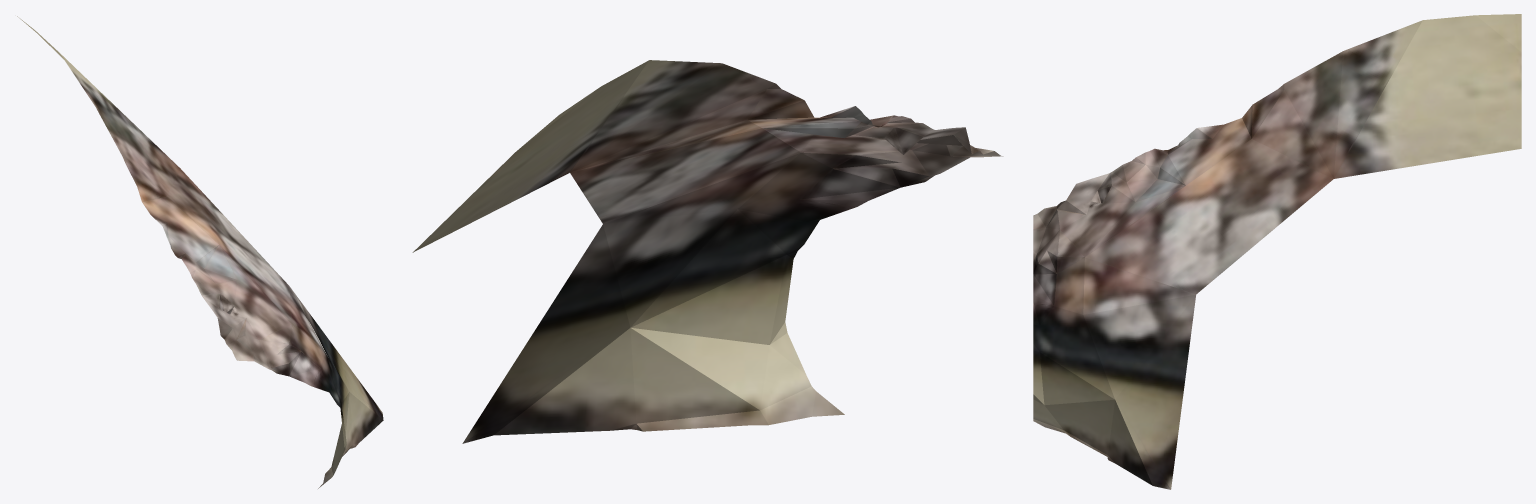
3 views of the same model, side by side, from view 1: azimuth 30°, elevation 25°; view 2: azimuth 150°, elevation 25°; view 3: azimuth 270°, elevation 25° (orthographic). The views are drawn at different scales.
Bounding box in the file's own units: 0.9052 × 1.38 × 1.67.
Materials: 1 (1 with a texture image).
